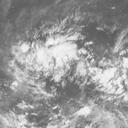cyclone: (20, 32, 92, 85)
